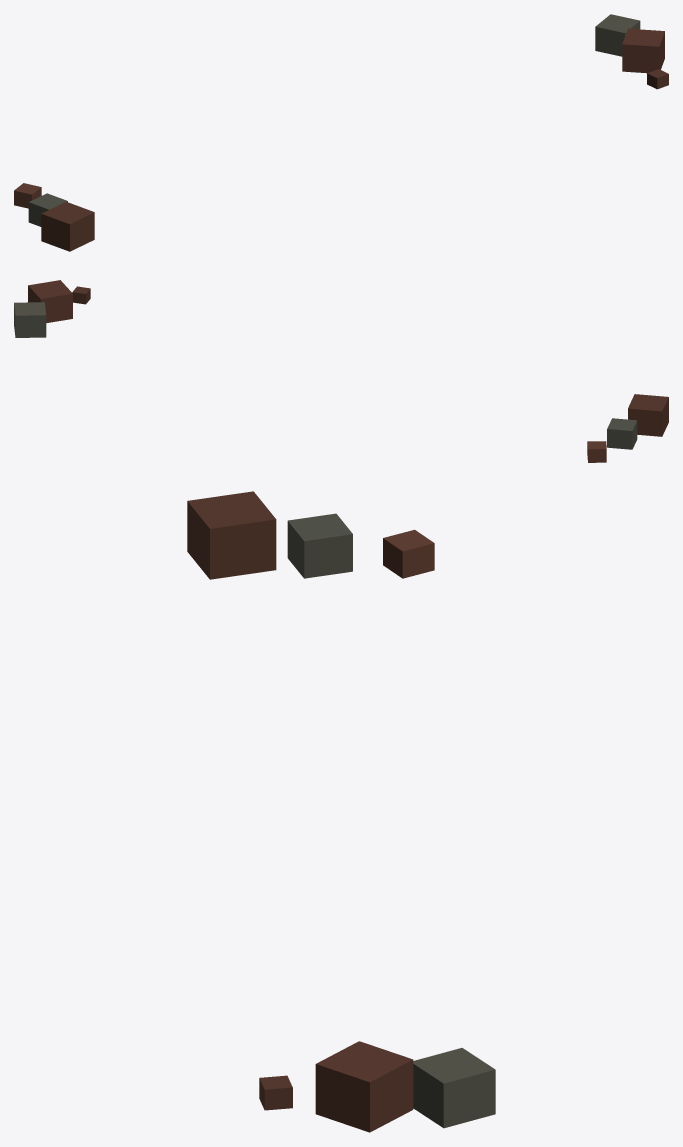
Rendered from miners_cap_detail1.glb.
3 views of the same model, one above another, from view 1: azimuth 30°, elevation 25°; view 2: azimuth 150°, elevation 25°; view 3: azimuth 270°, elevation 25° (orthographic). The views are drawn at different scales.
Parts seen in each view (by area): view 1: miners_cap_detail1; view 2: miners_cap_detail1; view 3: miners_cap_detail1.
Part boxes in pixels (bbox=[...]): miners_cap_detail1: bbox=[14, 14, 668, 251]; miners_cap_detail1: bbox=[14, 280, 668, 462]; miners_cap_detail1: bbox=[187, 491, 495, 1132].
Bounding box in the file's own units: 21.06 × 0.8449 × 4.65.
